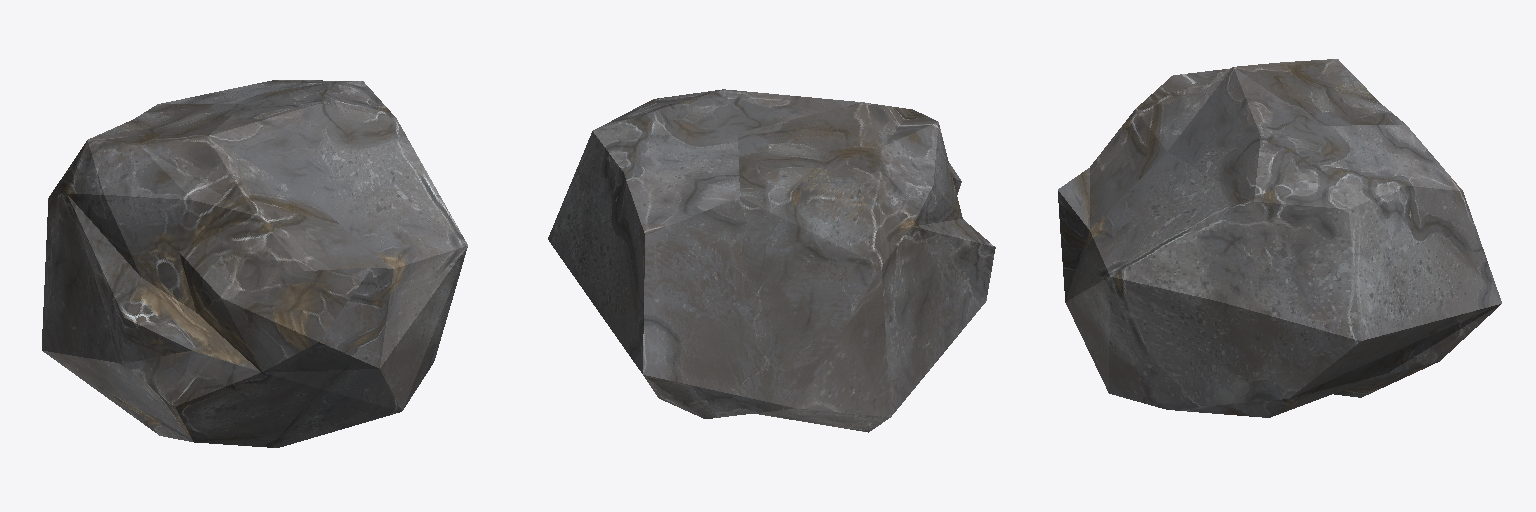
3 views of the same model, side by side, from view 1: azimuth 30°, elevation 25°; view 2: azimuth 150°, elevation 25°; view 3: azimuth 270°, elevation 25° (orthographic).
Visible parts, largest first — view 1: Mesh_rock_low.002_Group583_Mesh_rock_low.002_Group583_rock01; view 2: Mesh_rock_low.002_Group583_Mesh_rock_low.002_Group583_rock01; view 3: Mesh_rock_low.002_Group583_Mesh_rock_low.002_Group583_rock01.
Part boxes in pixels (x1,y1,x2,y2): Mesh_rock_low.002_Group583_Mesh_rock_low.002_Group583_rock01: (42,80,467,447); Mesh_rock_low.002_Group583_Mesh_rock_low.002_Group583_rock01: (548,89,995,432); Mesh_rock_low.002_Group583_Mesh_rock_low.002_Group583_rock01: (1058,59,1501,417).
Size of the model in its own units: 1.8 by 1.47 by 1.92.
1 materials, 1 textured.